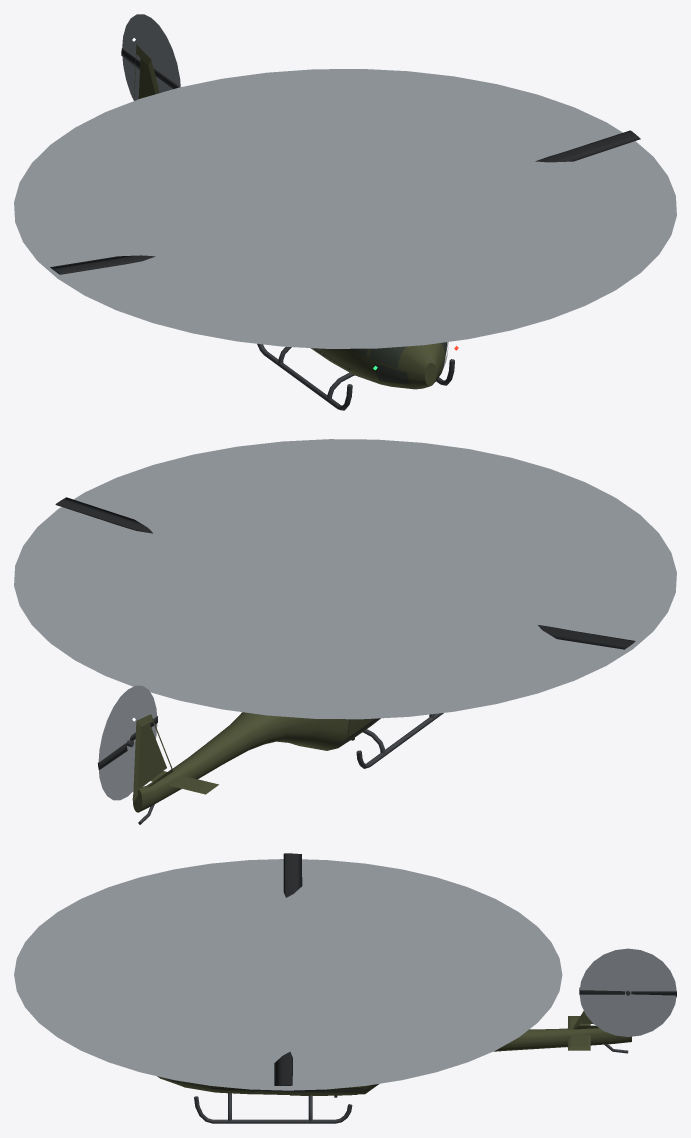
The model's file is helis.glb.
3 renders of one model, top to bottom at view 1: azimuth 30°, elevation 25°; view 2: azimuth 150°, elevation 25°; view 3: azimuth 270°, elevation 25°, orthographic. The views are drawn at different scales.
Parts seen in each view (by area): view 1: huey_rotor_blur, huey_body, huey_tailrotor_blur, huey_mainrotor; view 2: huey_rotor_blur, huey_body, huey_tailrotor_blur, huey_mainrotor; view 3: huey_rotor_blur, huey_tailrotor_blur, huey_body, huey_mainrotor, huey_tailrotor.
Boxes of the visible parts, left/top/right/bottom form: huey_rotor_blur: left=14, top=69, right=676, bottom=348; huey_body: left=134, top=44, right=454, bottom=410; huey_tailrotor_blur: left=122, top=14, right=180, bottom=100; huey_mainrotor: left=50, top=130, right=640, bottom=274; huey_rotor_blur: left=14, top=439, right=676, bottom=719; huey_body: left=132, top=712, right=443, bottom=824; huey_tailrotor_blur: left=98, top=685, right=157, bottom=800; huey_mainrotor: left=55, top=497, right=635, bottom=649; huey_rotor_blur: left=14, top=859, right=562, bottom=1090; huey_tailrotor_blur: left=579, top=948, right=676, bottom=1036; huey_body: left=157, top=1011, right=631, bottom=1123; huey_mainrotor: left=274, top=853, right=302, bottom=1085; huey_tailrotor: left=579, top=987, right=676, bottom=997.
Size of the model in its own units: 14.6 by 4.68 by 17.65.
